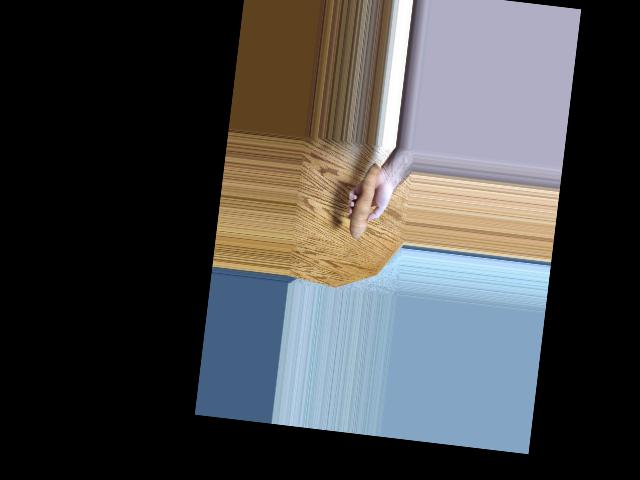sweet_potato: (343, 164, 381, 240)
